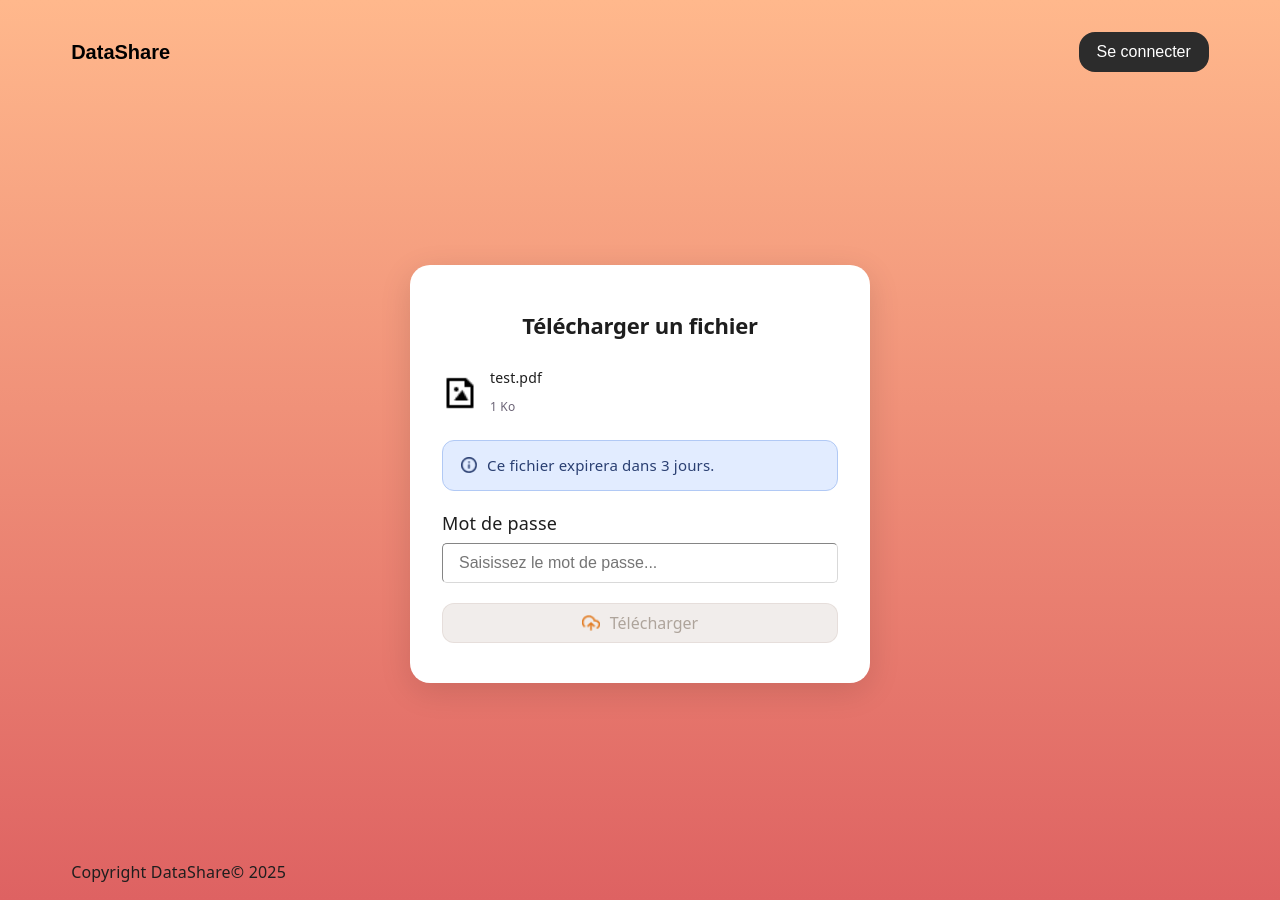
it: Telechargement › État protégé — avec mot de passe saisi › active le bouton Télécharger après saisie
In the password field labelled "Mot de passe": (640, 563) 442,543 -> 838,583, type "secret123"
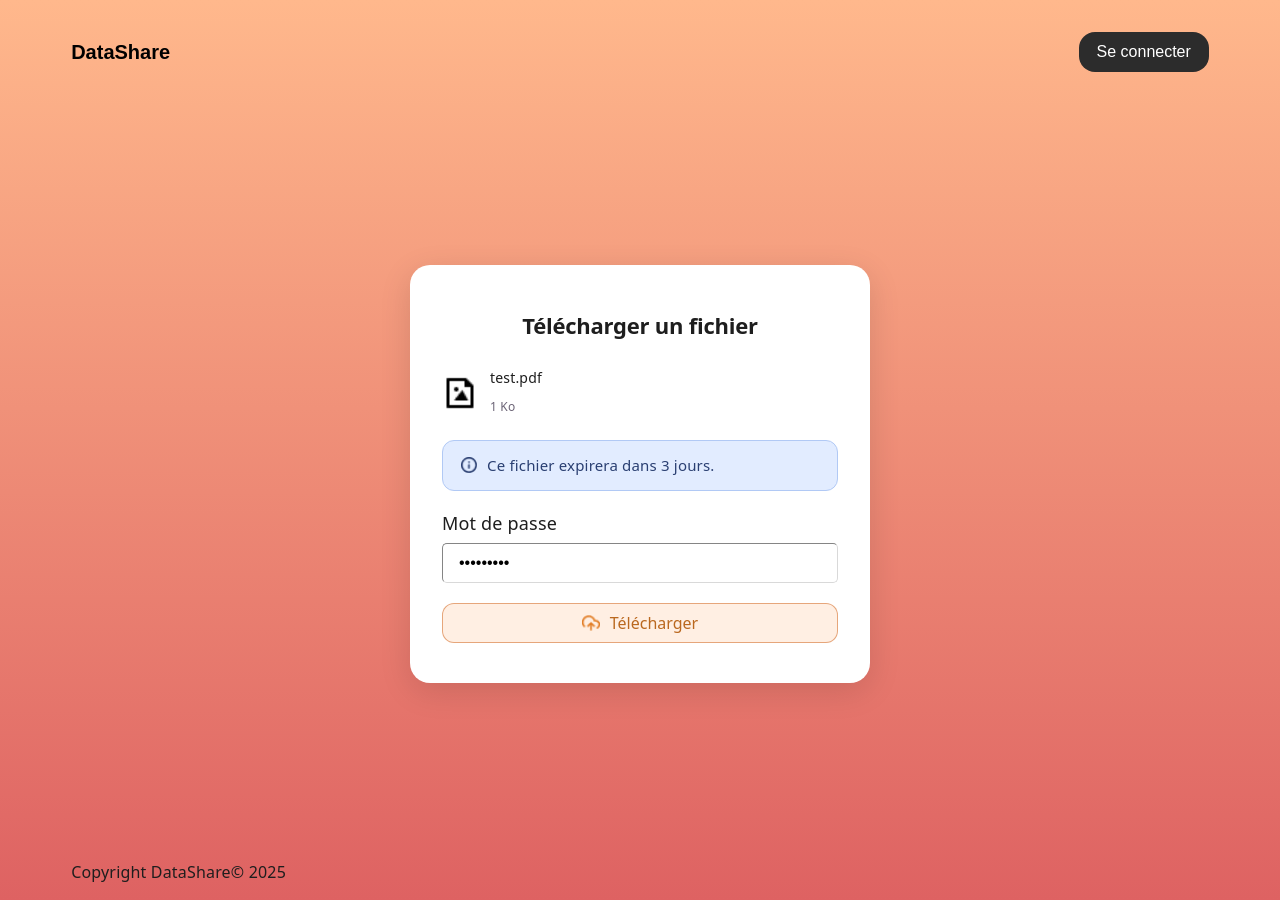
Result: the button "Télécharger" is enabled at 442,603 -> 838,643
